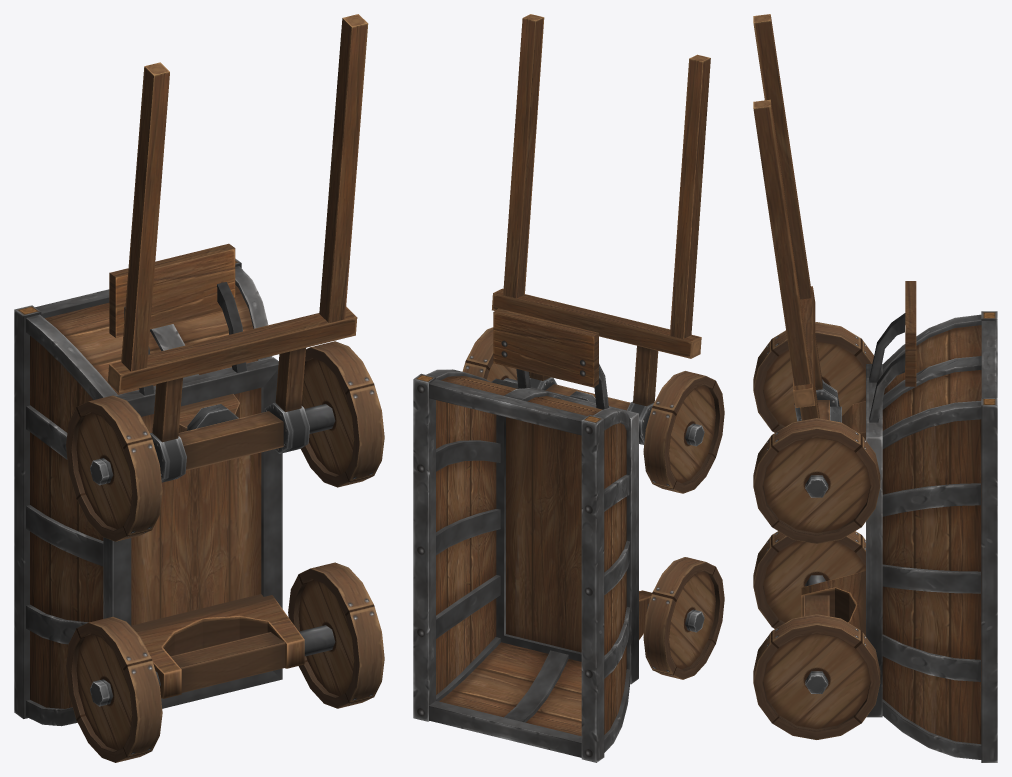
File: cart1.fbx
The picture shows the model from 3 angles, left to right: view 1: azimuth 30°, elevation 25°; view 2: azimuth 150°, elevation 25°; view 3: azimuth 270°, elevation 25°; orthographic projection. The views are drawn at different scales.
Parts seen in each view (by area): view 1: cart1_LOD0; view 2: cart1_LOD0; view 3: cart1_LOD0.
Boxes of the visible parts, left/top/right/bottom form: cart1_LOD0: left=14, top=14, right=384, bottom=762; cart1_LOD0: left=413, top=14, right=724, bottom=762; cart1_LOD0: left=753, top=14, right=997, bottom=762.
Size of what is drawn, in the model's own units: 1.57 by 4.3 by 1.45.
